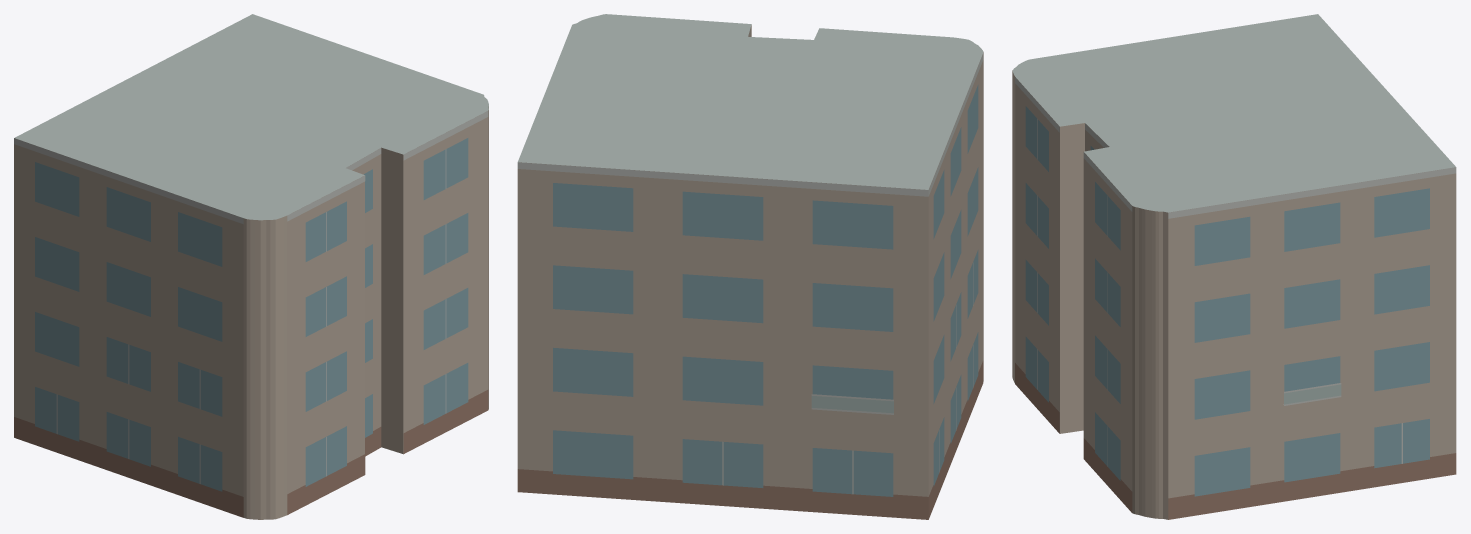
Rendered from survey-upis-32958897.glb.
3 views of the same model, side by side, from view 1: azimuth 30°, elevation 25°; view 2: azimuth 150°, elevation 25°; view 3: azimuth 270°, elevation 25° (orthographic). The views are drawn at different scales.
Parts seen in each view (by area): view 1: survey-upis-32958897.tmp; view 2: survey-upis-32958897.tmp; view 3: survey-upis-32958897.tmp.
Part boxes in pixels (box(x1,y1,x2,y2)): survey-upis-32958897.tmp: box(14, 14, 488, 519); survey-upis-32958897.tmp: box(517, 14, 983, 519); survey-upis-32958897.tmp: box(1012, 14, 1456, 519).
Size of the model in its own units: 16.5 by 11.9 by 15.58.
